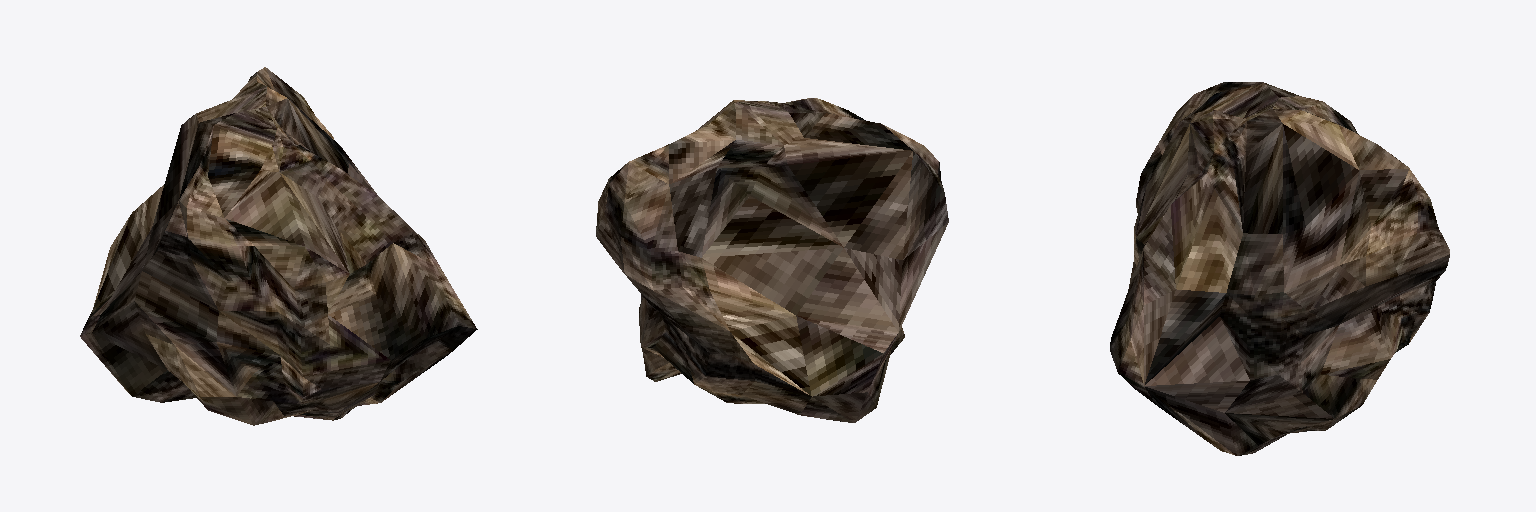
3 views of the same model, side by side, from view 1: azimuth 30°, elevation 25°; view 2: azimuth 150°, elevation 25°; view 3: azimuth 270°, elevation 25° (orthographic).
Visible parts, largest first — view 1: Sphere01; view 2: Sphere01; view 3: Sphere01.
Part boxes in pixels (left/top/right/bottom): Sphere01: left=80, top=67, right=477, bottom=425; Sphere01: left=596, top=98, right=948, bottom=422; Sphere01: left=1110, top=82, right=1449, bottom=455.
Bounding box in the file's own units: 213 × 216 × 213.
1 materials, 1 textured.